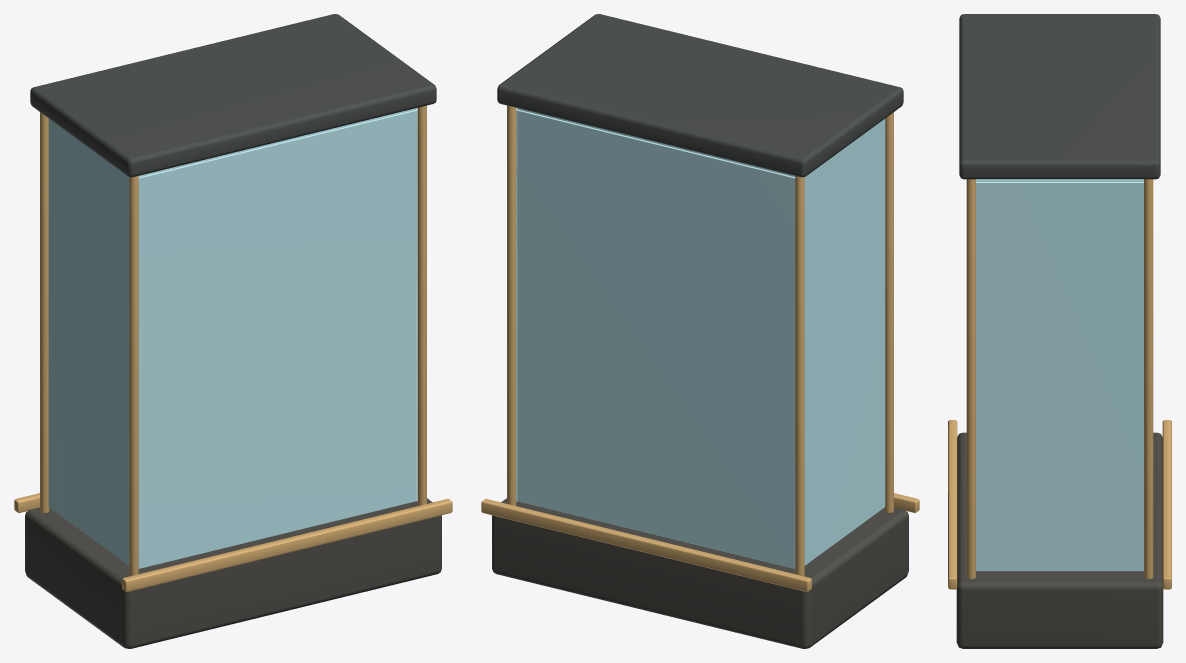
The model's file is hp_furniture_museum_glass_display_case_v1.glb.
The picture shows the model from 3 angles, left to right: view 1: azimuth 30°, elevation 25°; view 2: azimuth 150°, elevation 25°; view 3: azimuth 270°, elevation 25°; orthographic projection.
Parts seen in each view (by area): view 1: glass_front_panel, top_dark_cap, glass_left_panel, heavy_black_stone_base, thin_brass_base_trim, corner_brass_post, corner_brass_post.002, corner_brass_post.001; view 2: glass_back_panel, top_dark_cap, glass_left_panel, heavy_black_stone_base, thin_brass_base_trim.001, corner_brass_post.001, corner_brass_post.003, corner_brass_post; view 3: glass_right_panel, top_dark_cap, heavy_black_stone_base, corner_brass_post.002, corner_brass_post.003, thin_brass_base_trim, thin_brass_base_trim.001, glass_top_panel.
Boxes of the visible parts, x1,y1,x2,y2 form: glass_front_panel: (138, 109, 417, 568); top_dark_cap: (30, 14, 436, 177); glass_left_panel: (48, 118, 129, 565); heavy_black_stone_base: (25, 498, 441, 648); thin_brass_base_trim: (122, 499, 452, 592); corner_brass_post: (129, 176, 138, 576); corner_brass_post.002: (417, 105, 426, 505); corner_brass_post.001: (40, 112, 49, 512); glass_back_panel: (516, 109, 795, 568); top_dark_cap: (497, 14, 903, 177); glass_left_panel: (804, 118, 885, 565); heavy_black_stone_base: (492, 498, 908, 648); thin_brass_base_trim.001: (481, 499, 811, 592); corner_brass_post.001: (795, 176, 804, 576); corner_brass_post.003: (507, 105, 516, 505); corner_brass_post: (884, 112, 893, 512); glass_right_panel: (976, 181, 1143, 571); top_dark_cap: (959, 14, 1160, 179); heavy_black_stone_base: (956, 432, 1163, 648); corner_brass_post.002: (966, 179, 975, 578); corner_brass_post.003: (1144, 179, 1153, 578); thin_brass_base_trim: (948, 420, 957, 589); thin_brass_base_trim.001: (1162, 420, 1171, 589); glass_top_panel: (976, 179, 1143, 181).
Bounding box in the file's own units: 1.42 × 2.03 × 0.845.
